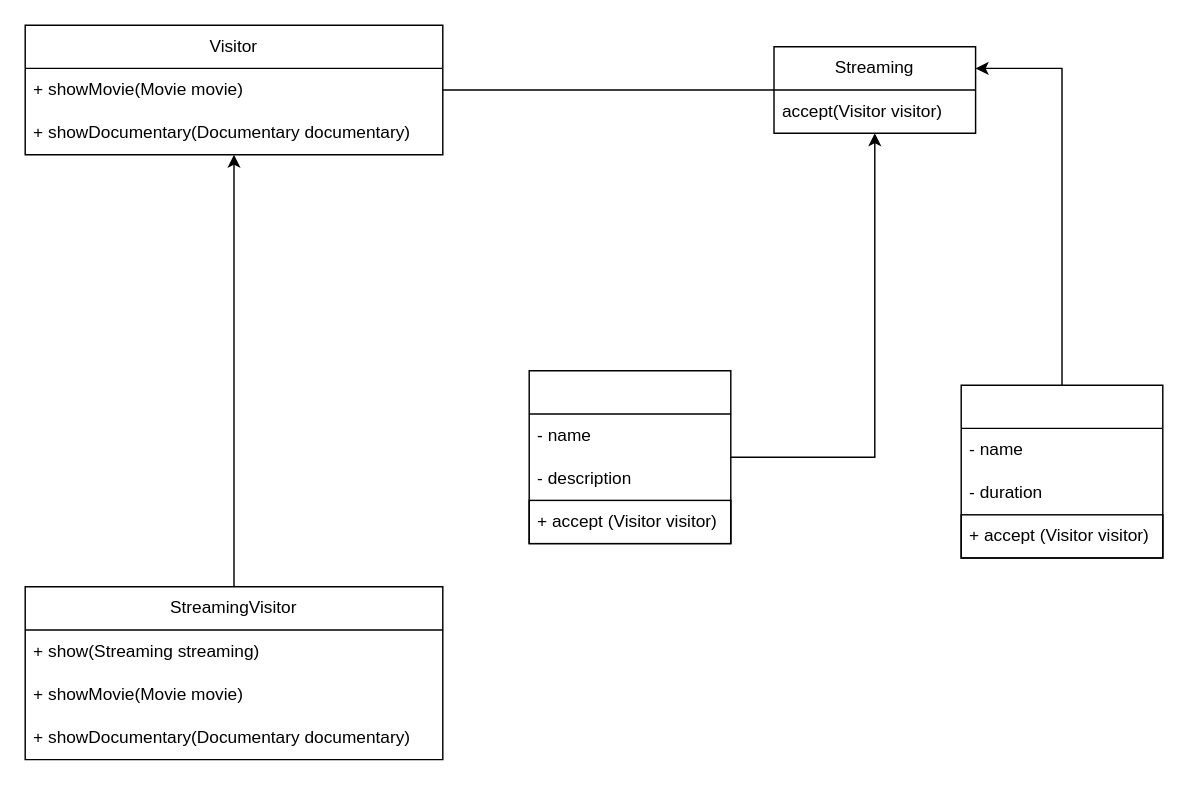
The diagram is 1188 pixels wide and 785 high, and some of its shapes have lost their labels. The box of each missing label's shape, as (x1, y1, x2, y2) in pixels:
Documentary: (960, 384, 1163, 558)
Movie: (528, 369, 731, 544)
